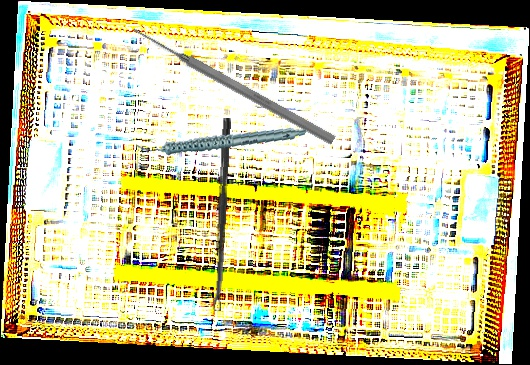Handpiece: (134, 107, 307, 173)
Pusher: (128, 22, 338, 147)
Surgical Spoon: (211, 117, 232, 312)
